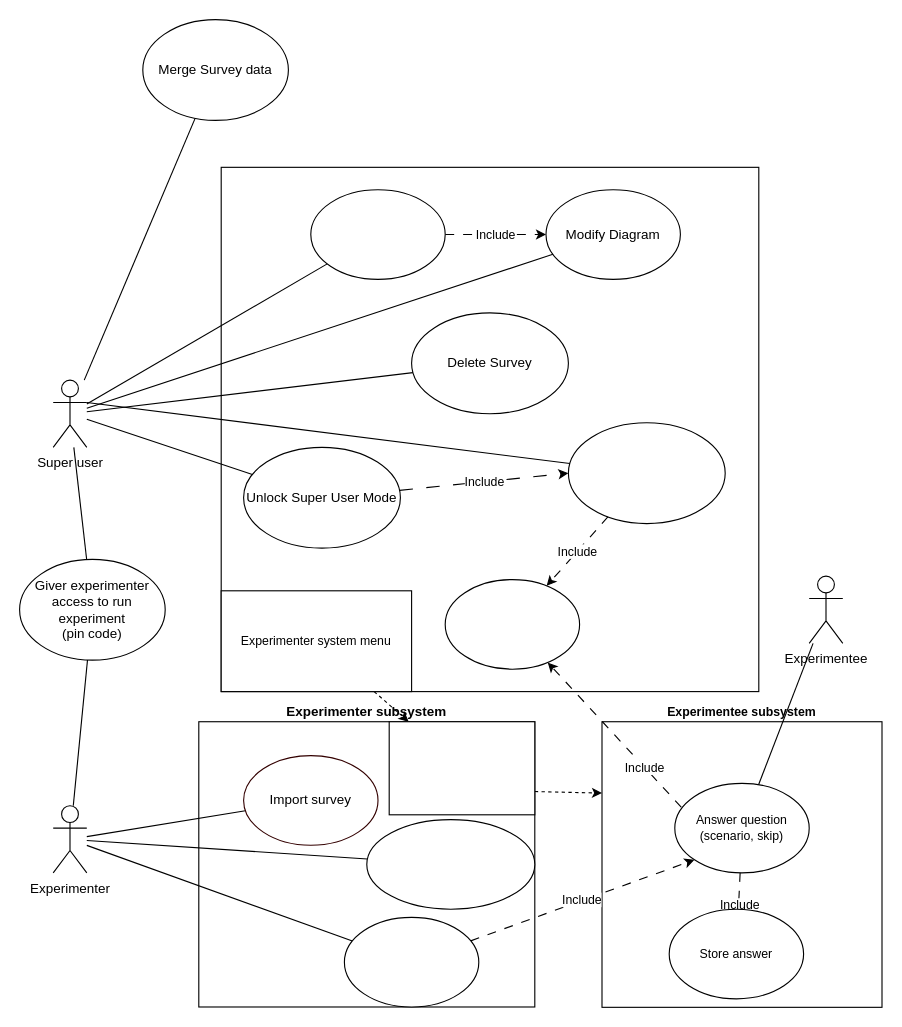
Image size: 902x1027. Some labels were removed from this diagram. Each missing label, with the box of its shape:
Create Diagram: (310, 189, 445, 279)
Exit Super User Mode: (567, 422, 725, 524)
Experimentee sub system: (388, 721, 535, 815)
Export experiment data(Password): (366, 818, 535, 909)
Lock screen: (444, 578, 580, 669)
Run experiment (Password): (343, 916, 479, 1007)
Survey system: (220, 166, 759, 692)
